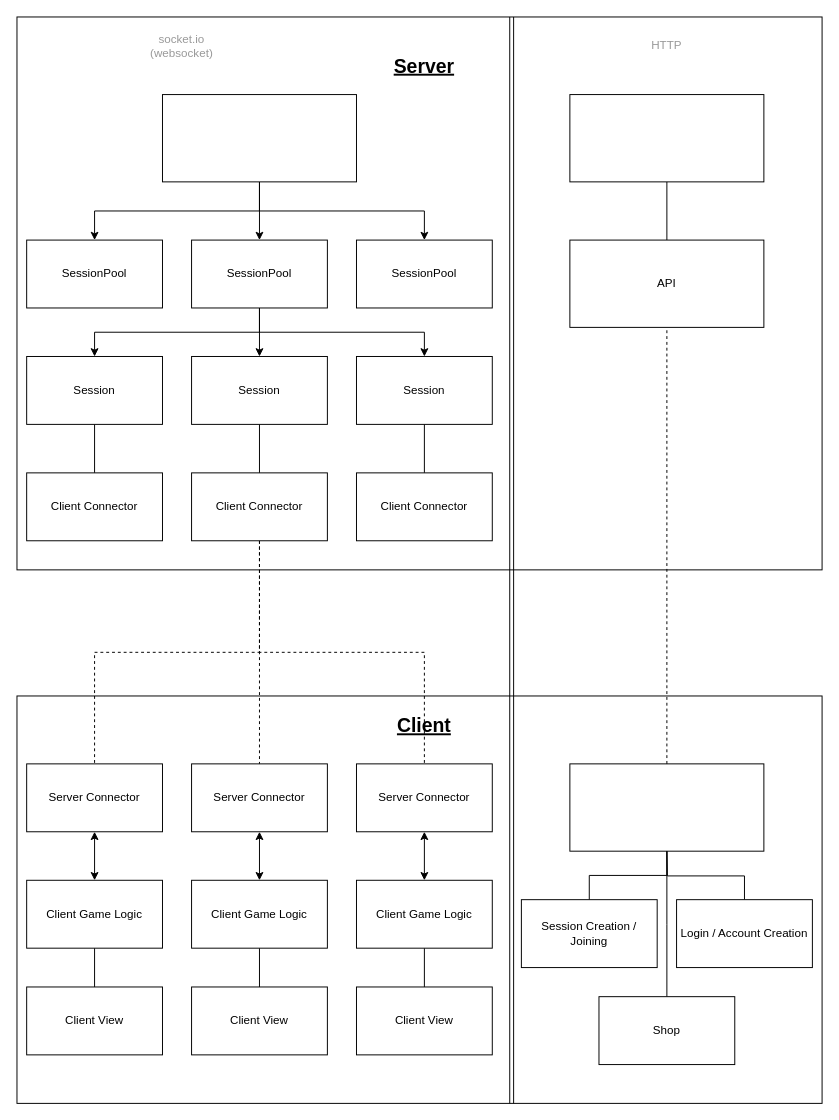
The diagram is 839 pixels wide and 1120 high, and some of its shapes have lost their labels. The centre of each missing label's shape, as x and y in pixels:
Browser: point 666,807
Express: point 666,138
Game Sessions: point 259,138
